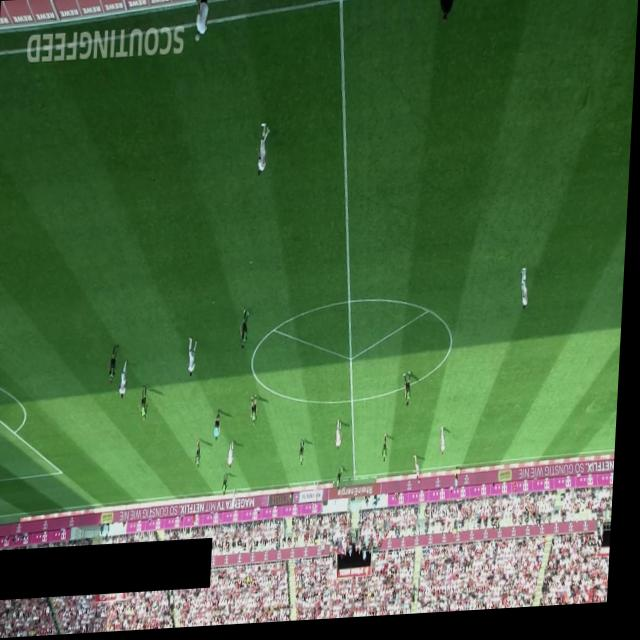player: (256, 125, 271, 180), (521, 273, 532, 318), (189, 338, 201, 379), (110, 346, 122, 385), (141, 387, 153, 424), (242, 312, 252, 352), (405, 376, 415, 412), (122, 361, 131, 401), (338, 422, 347, 454), (253, 397, 262, 429), (417, 459, 426, 490), (198, 441, 206, 471), (443, 431, 451, 460), (385, 437, 392, 467), (302, 442, 309, 470), (231, 443, 238, 471), (226, 475, 233, 497), (317, 484, 324, 506), (236, 491, 243, 513), (341, 470, 348, 491)
referee: (217, 412, 225, 444), (458, 473, 463, 497)
